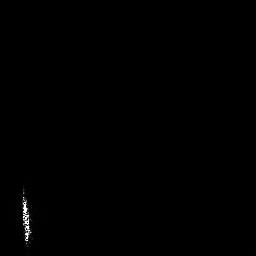ship: (21, 185, 34, 248)
